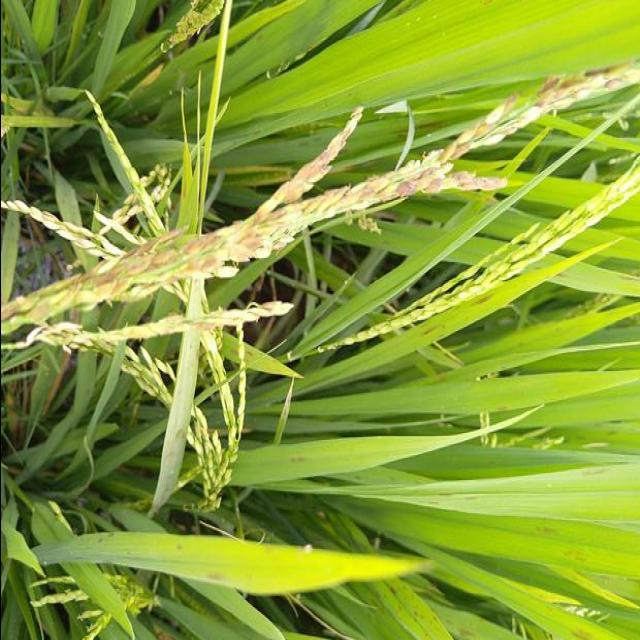Panicle Blight: (0, 97, 535, 324)
